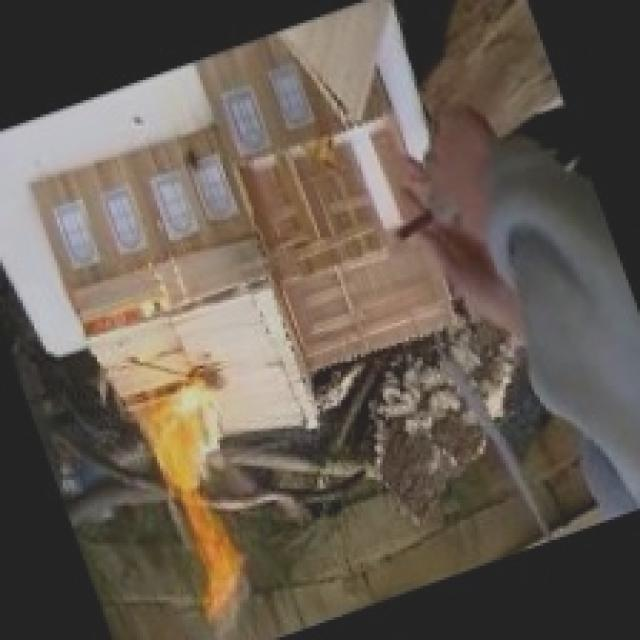fire: (124, 382, 284, 618)
